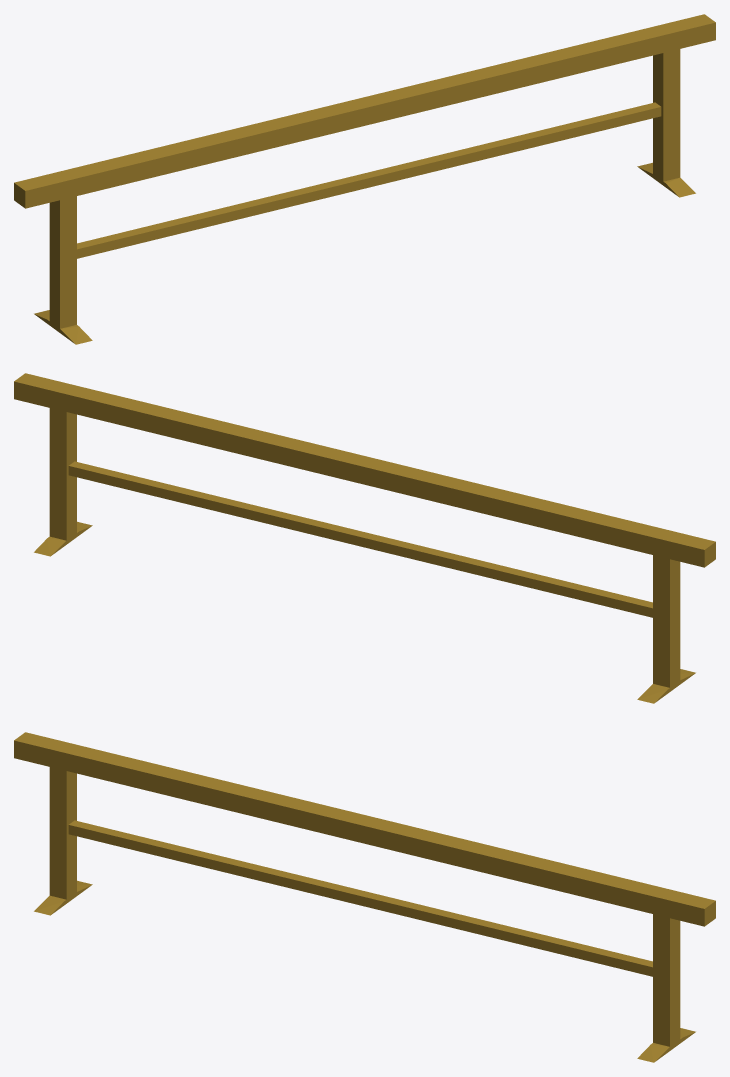
File: skate-rail.lod2.glb
The picture shows the model from 3 angles, top to bottom: view 1: azimuth 30°, elevation 25°; view 2: azimuth 150°, elevation 25°; view 3: azimuth 330°, elevation 25°; orthographic projection.
Visible parts, largest first — view 1: RailStraight_M_Rail_0; view 2: RailStraight_M_Rail_0; view 3: RailStraight_M_Rail_0.
Part boxes in pixels (bbox=[...]): RailStraight_M_Rail_0: bbox=[14, 14, 715, 344]; RailStraight_M_Rail_0: bbox=[14, 373, 715, 703]; RailStraight_M_Rail_0: bbox=[14, 732, 715, 1062].
Bounding box in the file's own units: 3.09 × 0.6455 × 0.3284.
